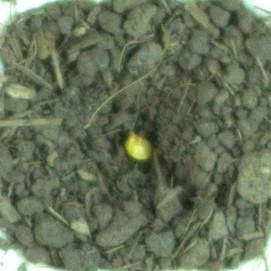pepper seed: (47, 50, 202, 212)
